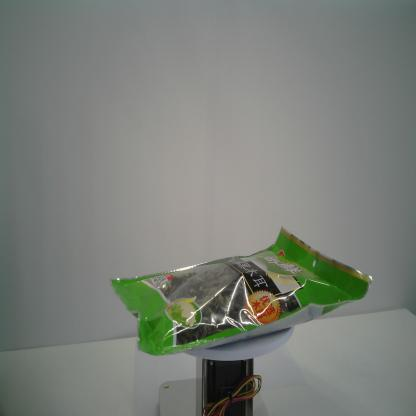Dried Food: (106, 225, 374, 358)
